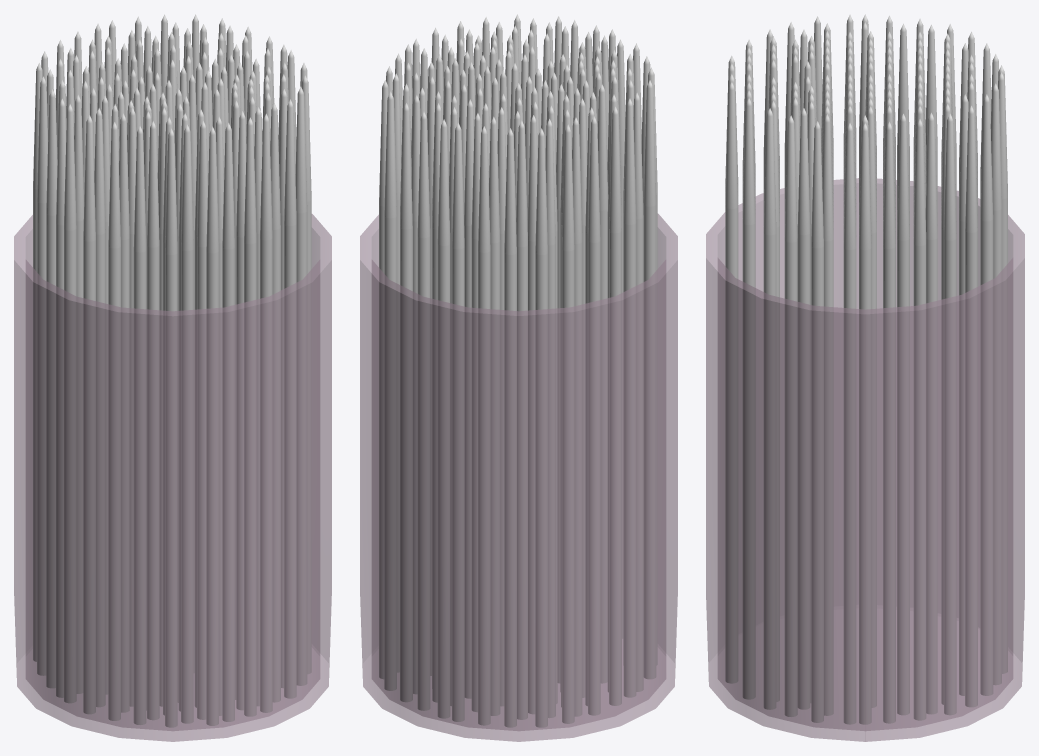
File: toothpicks.FBX
3 renders of one model, left to right at view 1: azimuth 30°, elevation 25°; view 2: azimuth 150°, elevation 25°; view 3: azimuth 270°, elevation 25°, orthographic.
Visible parts, largest first — view 1: Cylinder001, Cylinder003, Cylinder089, Cylinder023, Cylinder076, Cylinder090, Cylinder004, Cylinder075, Cylinder104, Cylinder083, Cylinder092, Cylinder098 (+27 smaller); view 2: Cylinder001, Cylinder072, Cylinder091, Cylinder139, Cylinder128, Cylinder138, Cylinder140, Cylinder116, Cylinder137, Cylinder024, Cylinder092, Cylinder094 (+31 smaller); view 3: Cylinder001, Cylinder004, Cylinder024, Cylinder023, Cylinder037, Cylinder027, Cylinder049, Cylinder025, Cylinder072, Cylinder073, Cylinder055, Cylinder032 (+22 smaller).
Boxes of the visible parts, x1,y1,x2,y2 form: Cylinder001: (14,214,331,741); Cylinder003: (244,117,256,716); Cylinder089: (181,124,193,723); Cylinder023: (284,99,296,698); Cylinder076: (206,126,218,725); Cylinder090: (165,128,177,727); Cylinder004: (260,113,272,712); Cylinder075: (222,123,234,721); Cylinder104: (108,122,120,720); Cylinder083: (64,104,76,702); Cylinder092: (83,115,95,713); Cylinder098: (147,121,159,719); Cylinder001: (360,214,677,741); Cylinder072: (384,91,396,690); Cylinder091: (504,128,516,727); Cylinder139: (535,128,547,727); Cylinder128: (588,116,600,715); Cylinder138: (478,126,490,725); Cylinder140: (562,124,574,723); Cylinder116: (609,106,621,705); Cylinder137: (452,122,464,721); Cylinder024: (400,103,412,701); Cylinder092: (643,80,656,678); Cylinder094: (623,98,636,697); Cylinder001: (706,178,1024,741); Cylinder004: (725,81,738,683); Cylinder024: (980,94,993,695); Cylinder023: (742,98,755,699); Cylinder037: (784,115,797,716); Cylinder027: (859,123,871,724); Cylinder049: (883,121,895,723); Cylinder025: (811,121,823,722); Cylinder072: (965,105,977,706); Cylinder073: (944,113,956,714); Cylinder055: (897,113,909,714); Cylinder032: (797,108,810,709).
Size of the model in its own units: 1.11 by 2.29 by 1.09.
